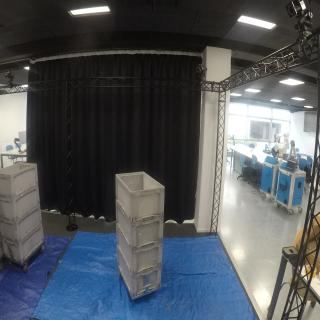Box4G: (115, 172, 166, 224), (116, 199, 167, 251), (117, 223, 164, 277), (118, 244, 163, 298), (2, 223, 46, 266), (1, 203, 44, 246), (1, 186, 44, 222), (1, 162, 41, 200)
